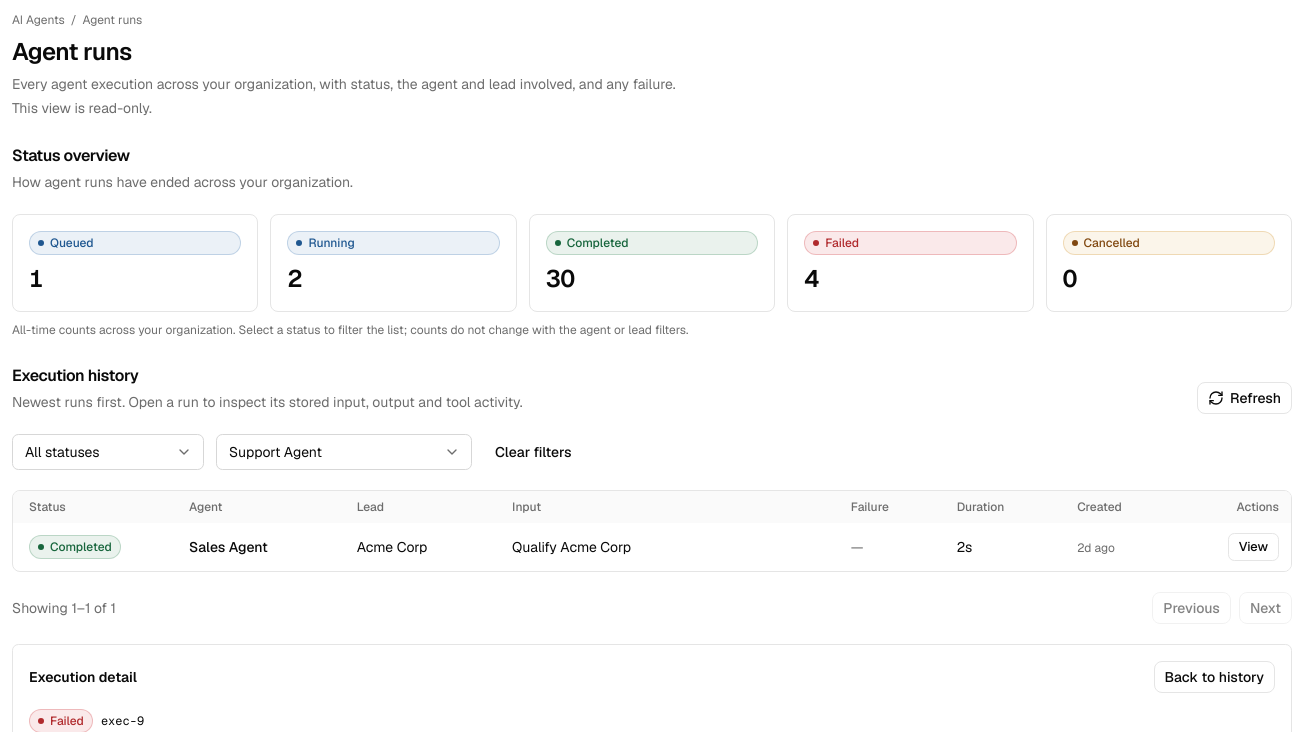
Test: Agent runs page › execution deep links › drops the open execution when filters change
Expected: the heading "Execution detail" is shown, [29,667,137,687]
Select "Failed" in the dropdown named "Execution status". click: [108, 452]
box: [12,434,204,470]
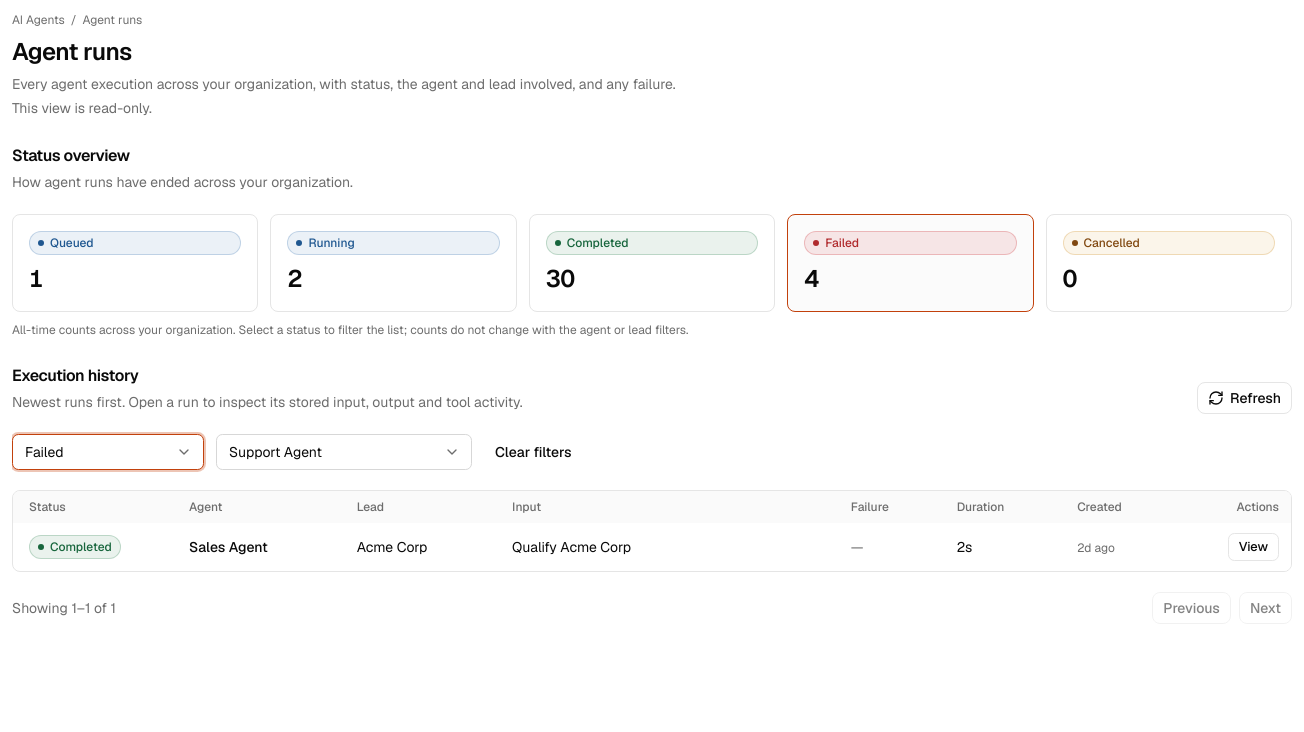
Expected: the heading "Execution detail" is gone
